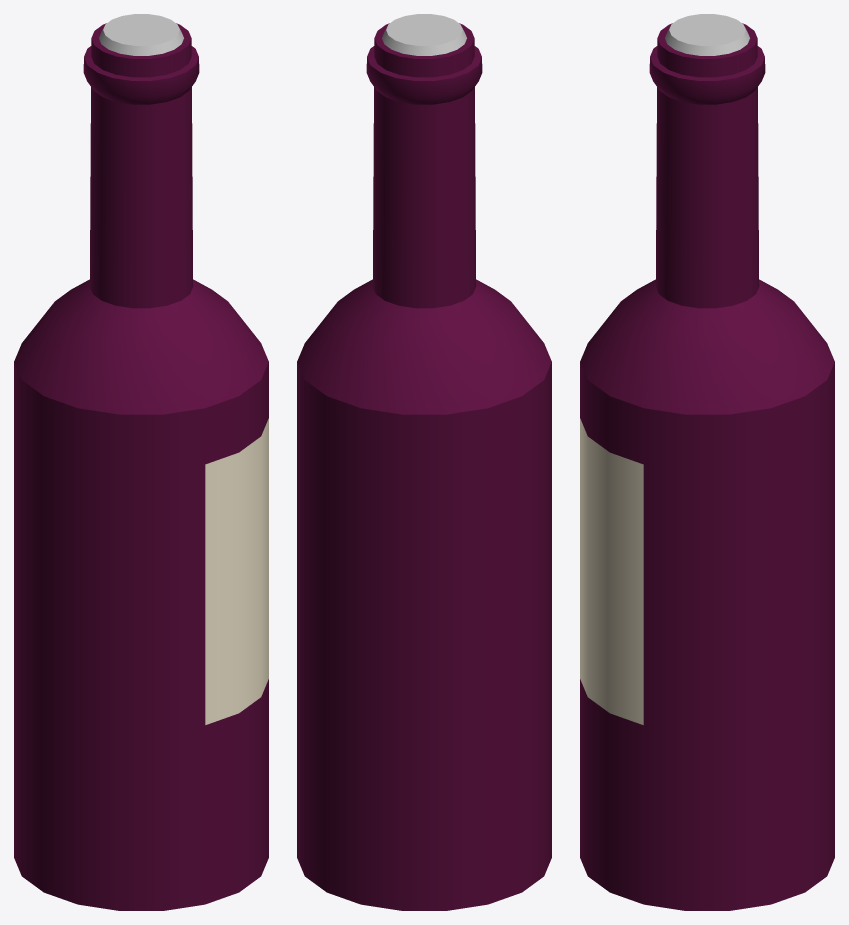
The model's file is wine_01.FBX.
3 renders of one model, left to right at view 1: azimuth 30°, elevation 25°; view 2: azimuth 150°, elevation 25°; view 3: azimuth 270°, elevation 25°, orthographic.
Parts seen in each view (by area): view 1: Cylinder025; view 2: Cylinder025; view 3: Cylinder025.
Boxes of the visible parts, left/top/right/bottom form: Cylinder025: left=14, top=14, right=268, bottom=910; Cylinder025: left=297, top=14, right=551, bottom=910; Cylinder025: left=580, top=14, right=834, bottom=910.
Bounding box in the file's own units: 16.04 × 58.41 × 16.29.
